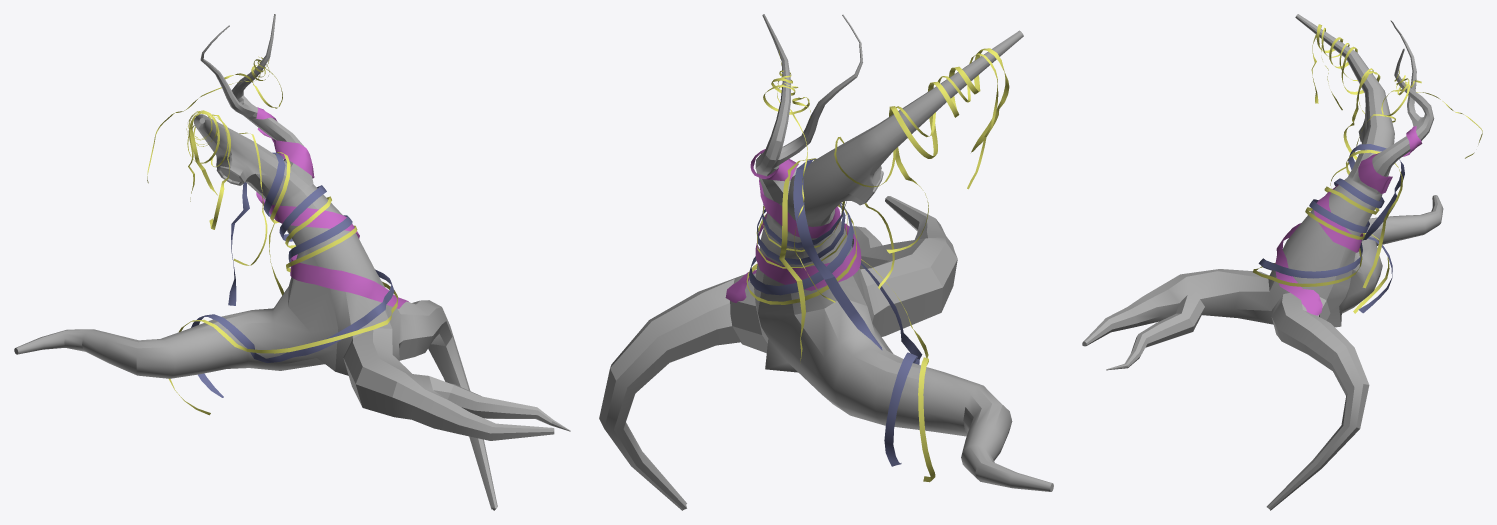
Rendered from Tree-ribbbon01.fbx.
The picture shows the model from 3 angles, left to right: view 1: azimuth 30°, elevation 25°; view 2: azimuth 150°, elevation 25°; view 3: azimuth 270°, elevation 25°; orthographic projection. The views are drawn at different scales.
Parts seen in each view (by area): view 1: polySurface4; view 2: polySurface4; view 3: polySurface4.
Part boxes in pixels (x1,y1,x2,y2): polySurface4: [14, 14, 570, 510]; polySurface4: [599, 14, 1053, 510]; polySurface4: [1082, 14, 1482, 510].
Bounding box in the file's own units: 1331 × 1544 × 1367.
